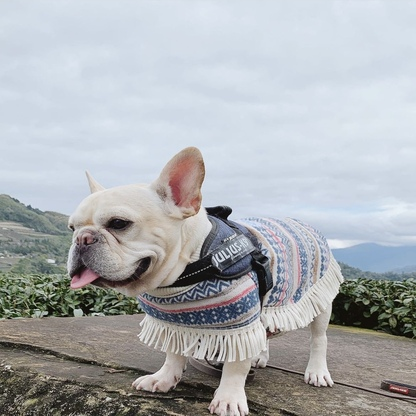bulldog: (62, 144, 346, 416)
